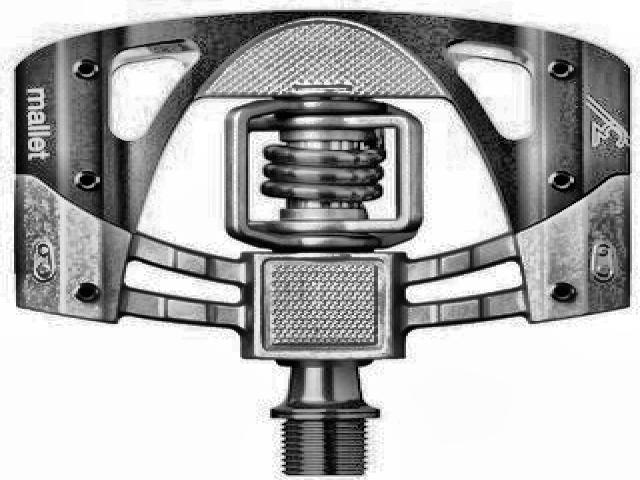pedal: (11, 5, 635, 475)
